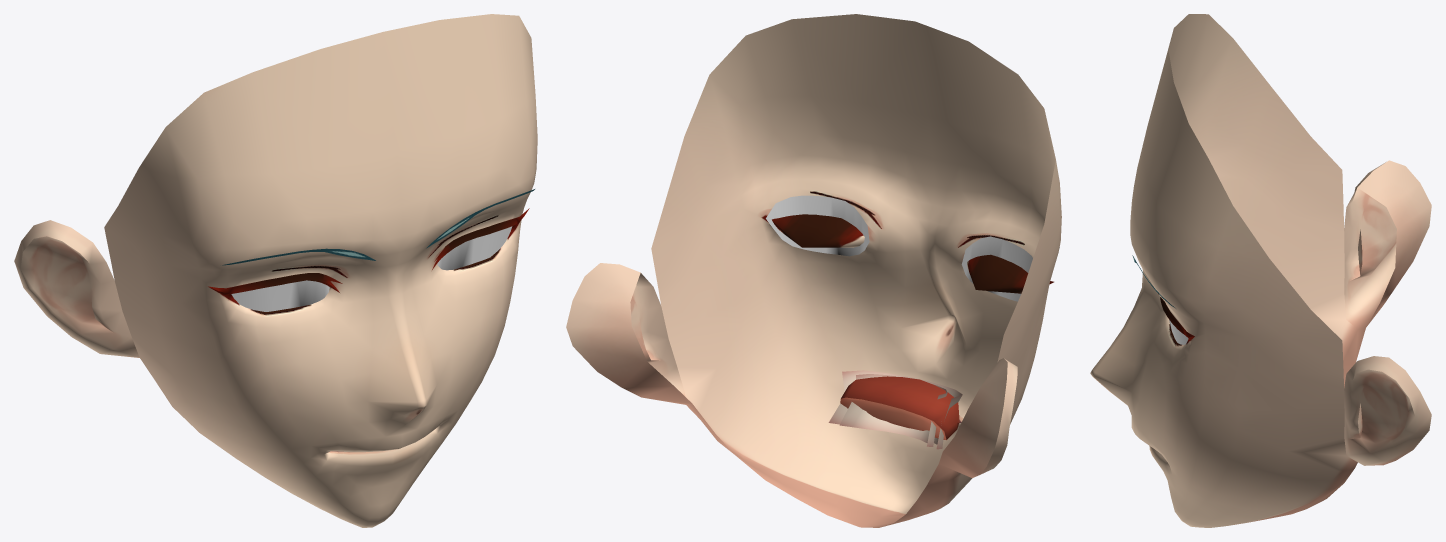
File: Wataru.fbx
3 renders of one model, left to right at view 1: azimuth 30°, elevation 25°; view 2: azimuth 150°, elevation 25°; view 3: azimuth 270°, elevation 25°, orthographic. The views are drawn at different scales.
Parts seen in each view (by area): view 1: M_Head, M_Eye_B_Def, M_Mth_B_Def, M_PupALL_R_A_Def, M_PupALL_L_A_Def, M_Brw_B_Def; view 2: M_Head, M_Eye_B_Def, M_Mth_B_Def, M_PupALL_L_A_Def, M_PupALL_R_A_Def; view 3: M_Head, M_Eye_B_Def, M_Mth_B_Def.
Boxes of the visible parts, <box> form: M_Head: <box>14,14,537,395</box>; M_Eye_B_Def: <box>162,139,537,411</box>; M_Mth_B_Def: <box>140,355,494,527</box>; M_PupALL_R_A_Def: <box>231,280,329,311</box>; M_PupALL_L_A_Def: <box>437,226,512,270</box>; M_Brw_B_Def: <box>220,189,534,265</box>; M_Head: <box>566,14,1061,477</box>; M_Eye_B_Def: <box>706,133,1061,413</box>; M_Mth_B_Def: <box>685,317,1020,527</box>; M_PupALL_L_A_Def: <box>766,195,869,256</box>; M_PupALL_R_A_Def: <box>961,236,1032,301</box>; M_Head: <box>1132,14,1431,465</box>; M_Eye_B_Def: <box>1090,118,1244,447</box>; M_Mth_B_Def: <box>1091,319,1365,527</box>.
Size of the model in its own units: 0.1645 by 0.1715 by 0.1119.
5 materials, 3 textured.
